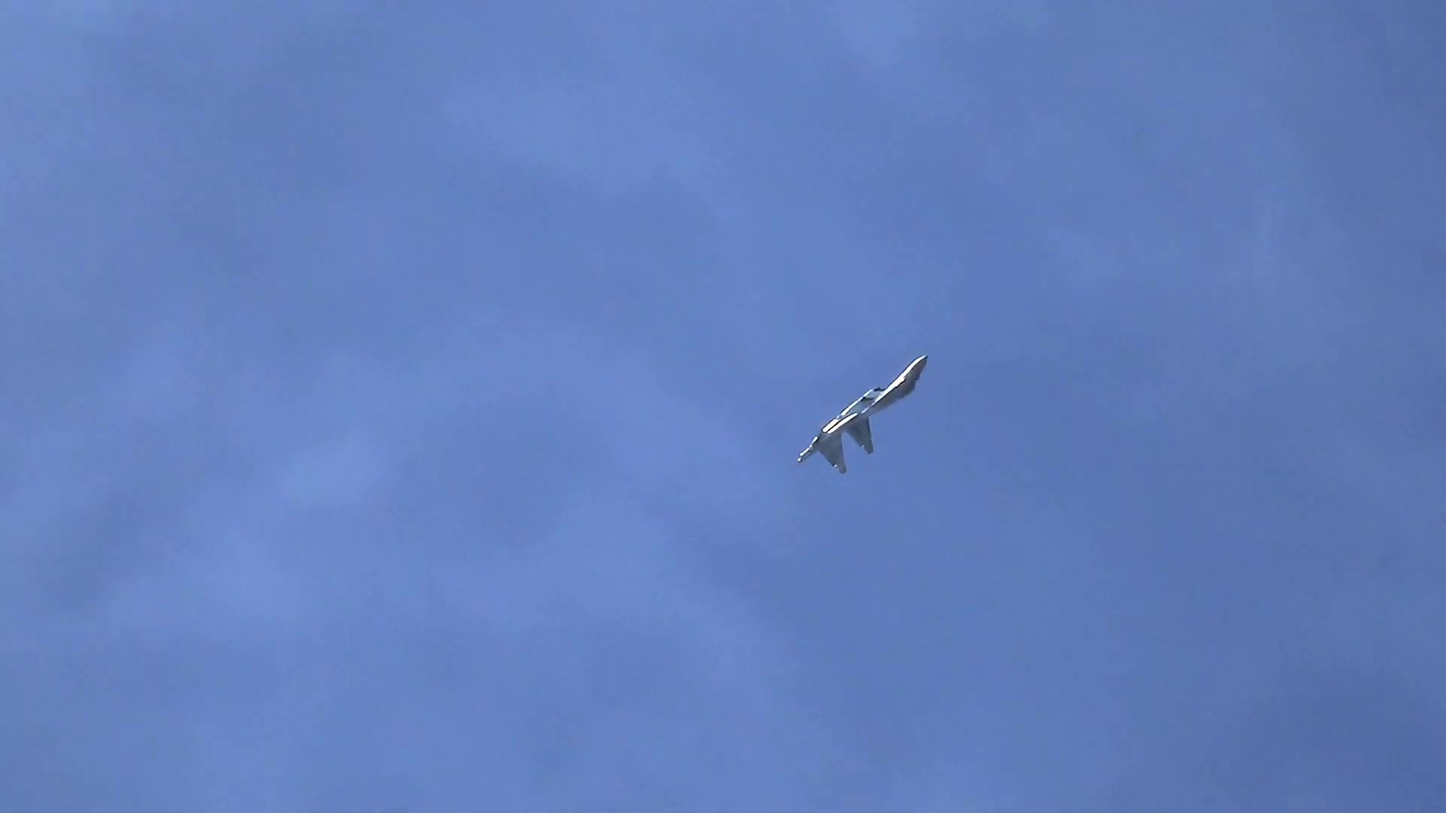Su35: (797, 353, 929, 474)
